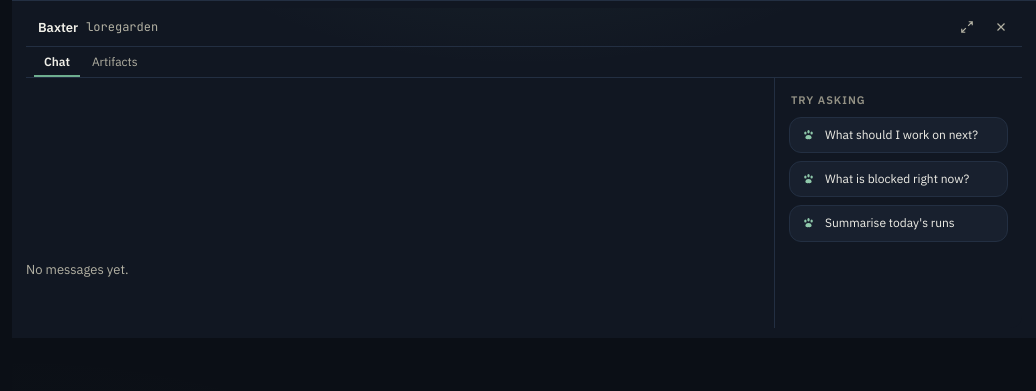
Test case: the head › opens the workspace thread full-page on the chat screen
Click the button named "Open full page" at (967, 27), box [954,14,980,40]
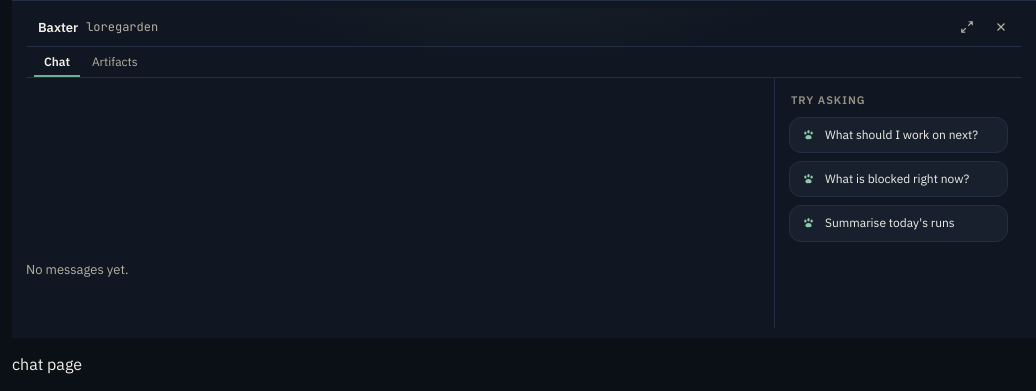
Now the text "chat page" is shown, box [12,354,82,374]
